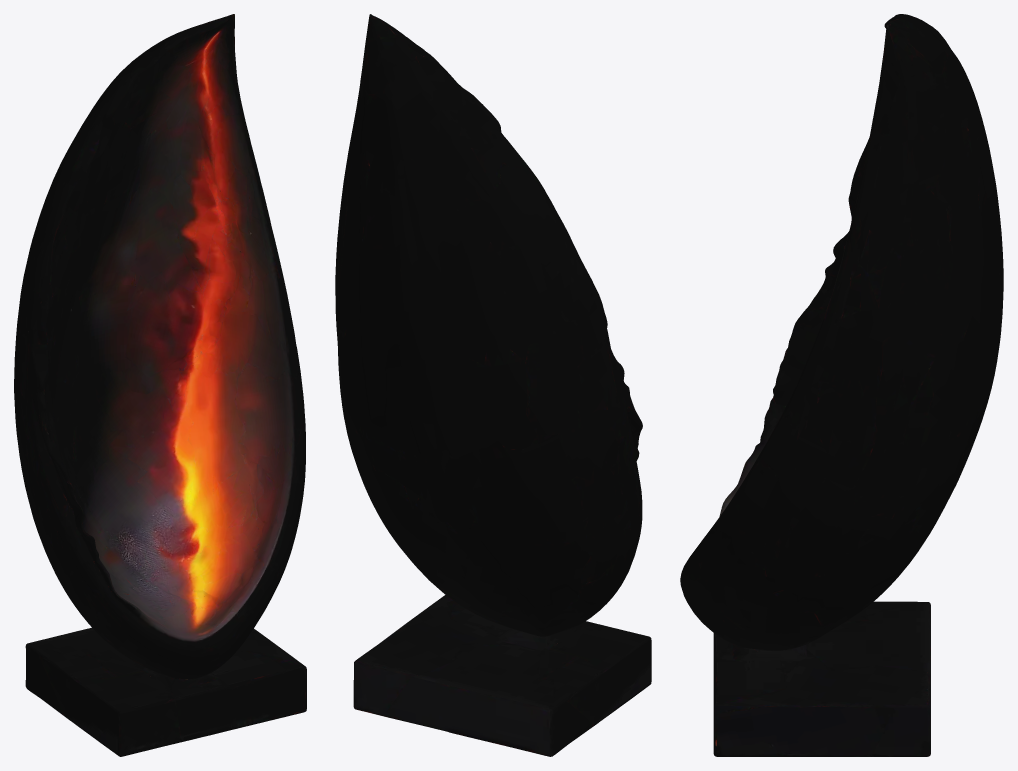
File: basalt-airfoil.glb
3 views of the same model, side by side, from view 1: azimuth 30°, elevation 25°; view 2: azimuth 150°, elevation 25°; view 3: azimuth 270°, elevation 25° (orthographic). The views are drawn at different scales.
Bounding box in the file's own units: 0.7923 × 1.9 × 0.7577.
1 material, 1 textured.
